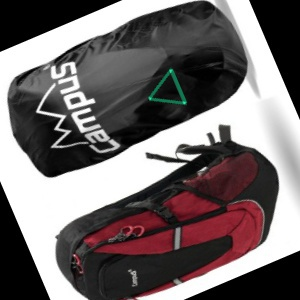triangle: (146, 67, 190, 109)
